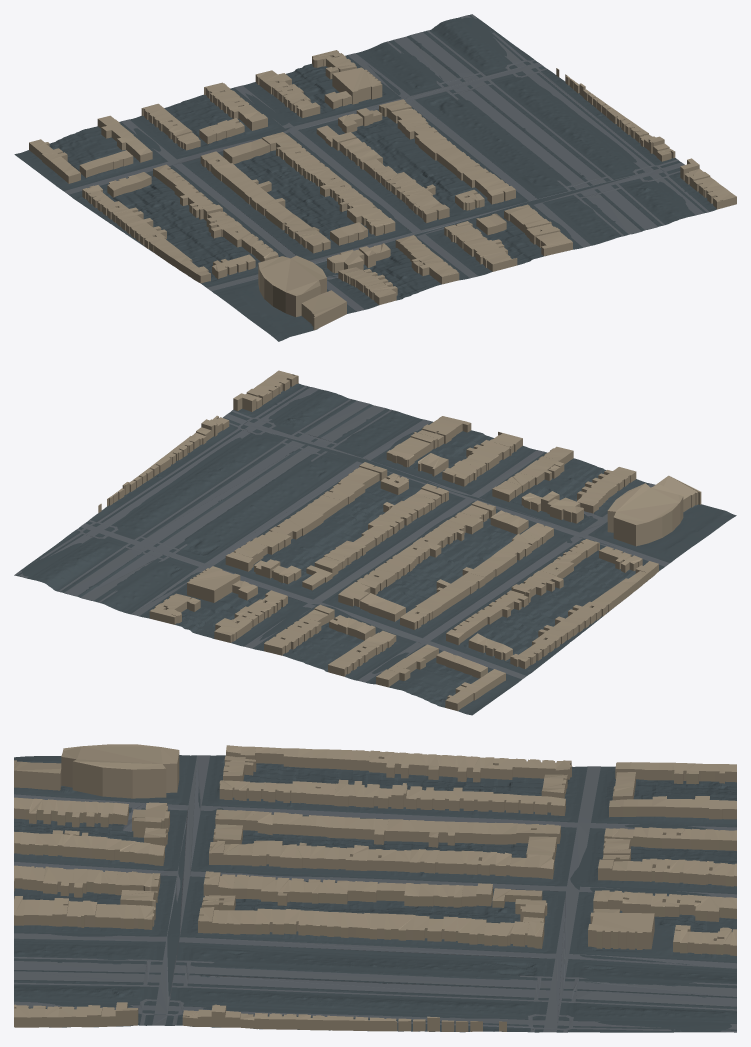
Rendered from epsg26910-1417-10882.lod0.glb.
3 renders of one model, top to bottom at view 1: azimuth 30°, elevation 25°; view 2: azimuth 150°, elevation 25°; view 3: azimuth 270°, elevation 25°, orthographic. The views are drawn at different scales.
Parts seen in each view (by area): view 1: epsg26910-1417-10882-lod0; view 2: epsg26910-1417-10882-lod0; view 3: epsg26910-1417-10882-lod0.
Part boxes in pixels (x1=…): epsg26910-1417-10882-lod0: x1=14, y1=14, x2=736, y2=341; epsg26910-1417-10882-lod0: x1=14, y1=370, x2=736, y2=715; epsg26910-1417-10882-lod0: x1=14, y1=744, x2=736, y2=1032.
Bounding box in the file's own units: 384 × 36.49 × 384.
